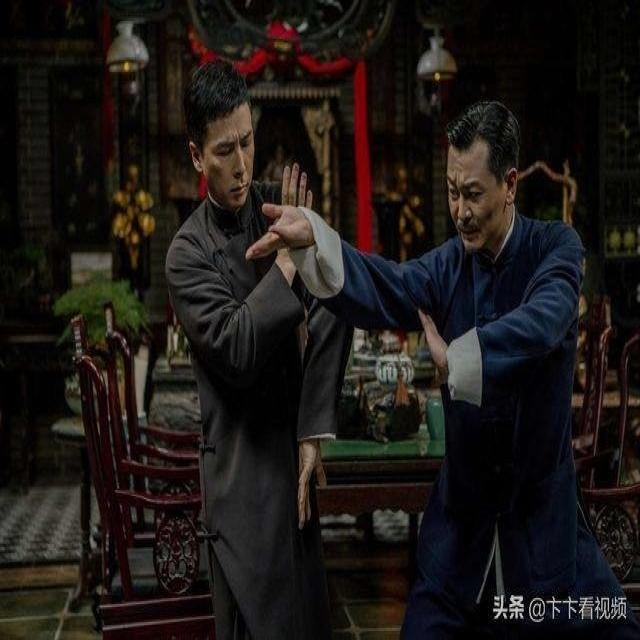fight: (153, 72, 597, 638)
